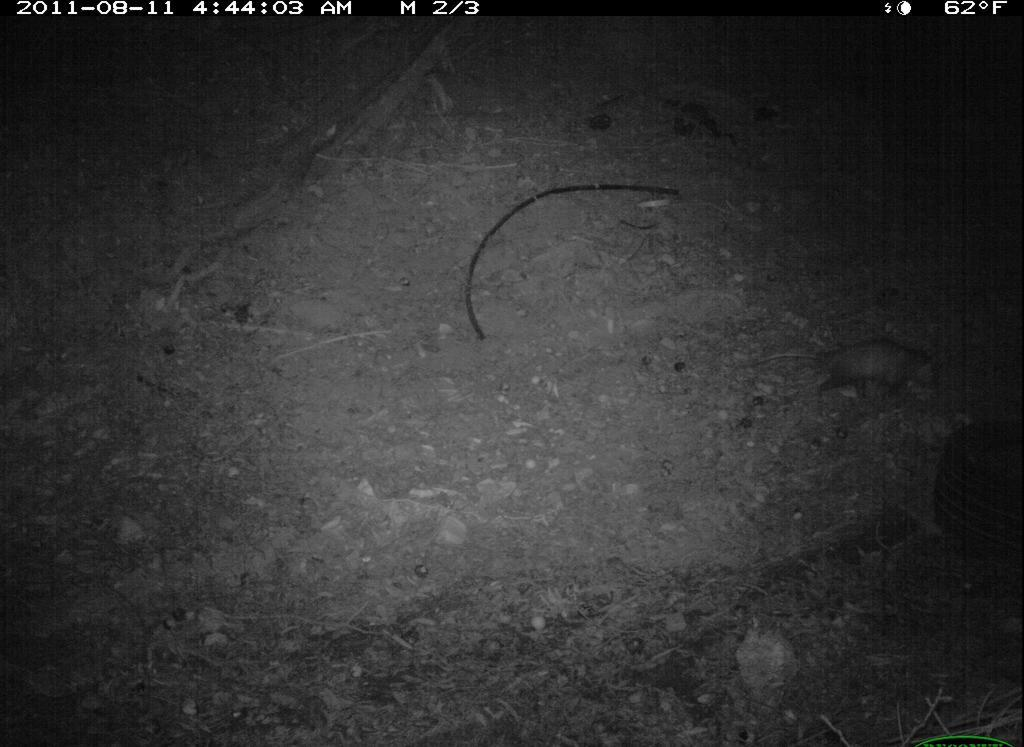opossum: (797, 327, 989, 432)
